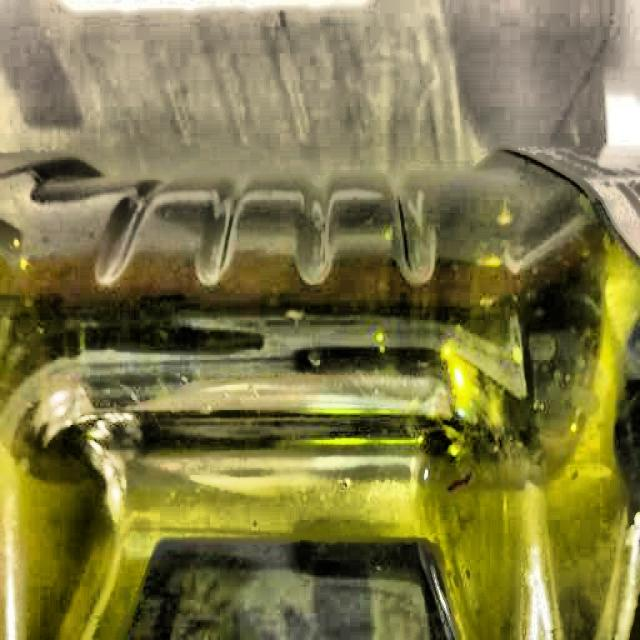Plastic: (4, 93, 640, 632)
